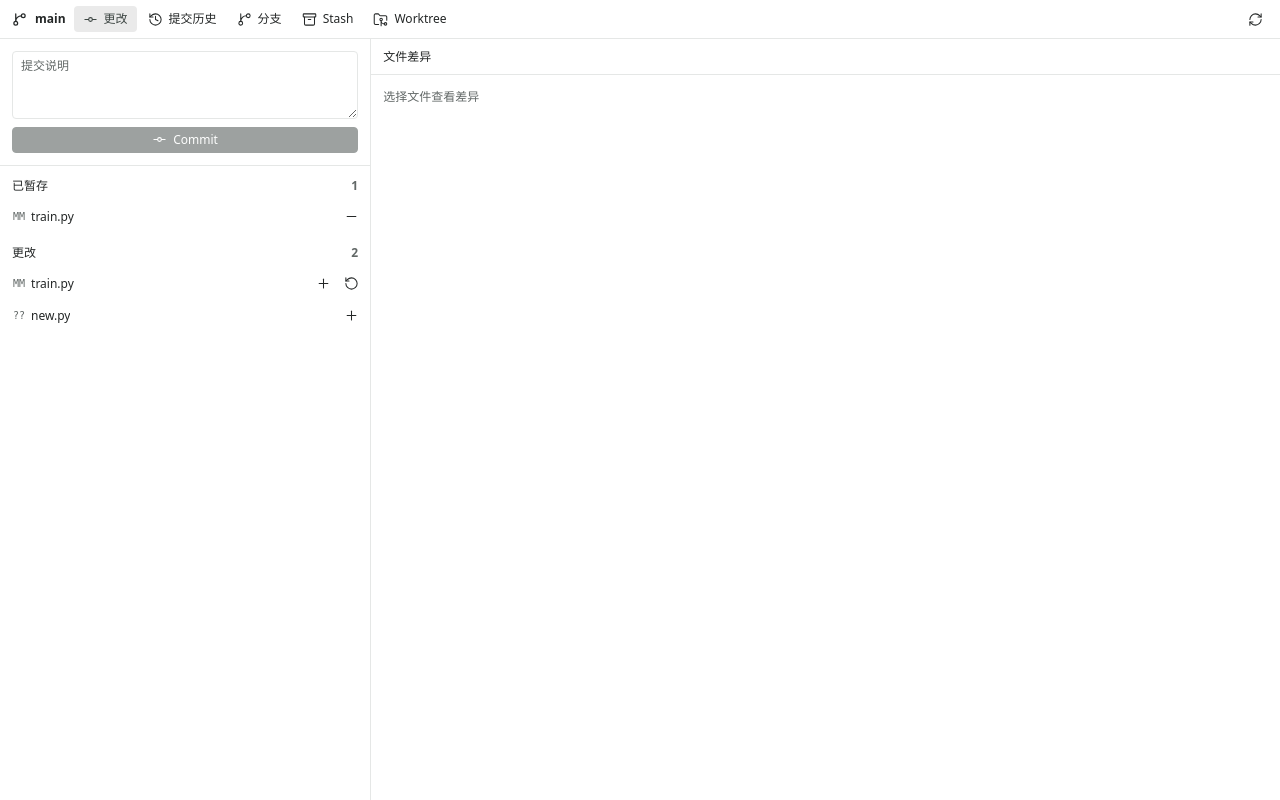
Test: protects existing unscoped manuscript drafts from manual Git overwrites
Click the button named "暂存 new.py".
click(351, 316)  # box x1=338 y1=303 x2=364 y2=329
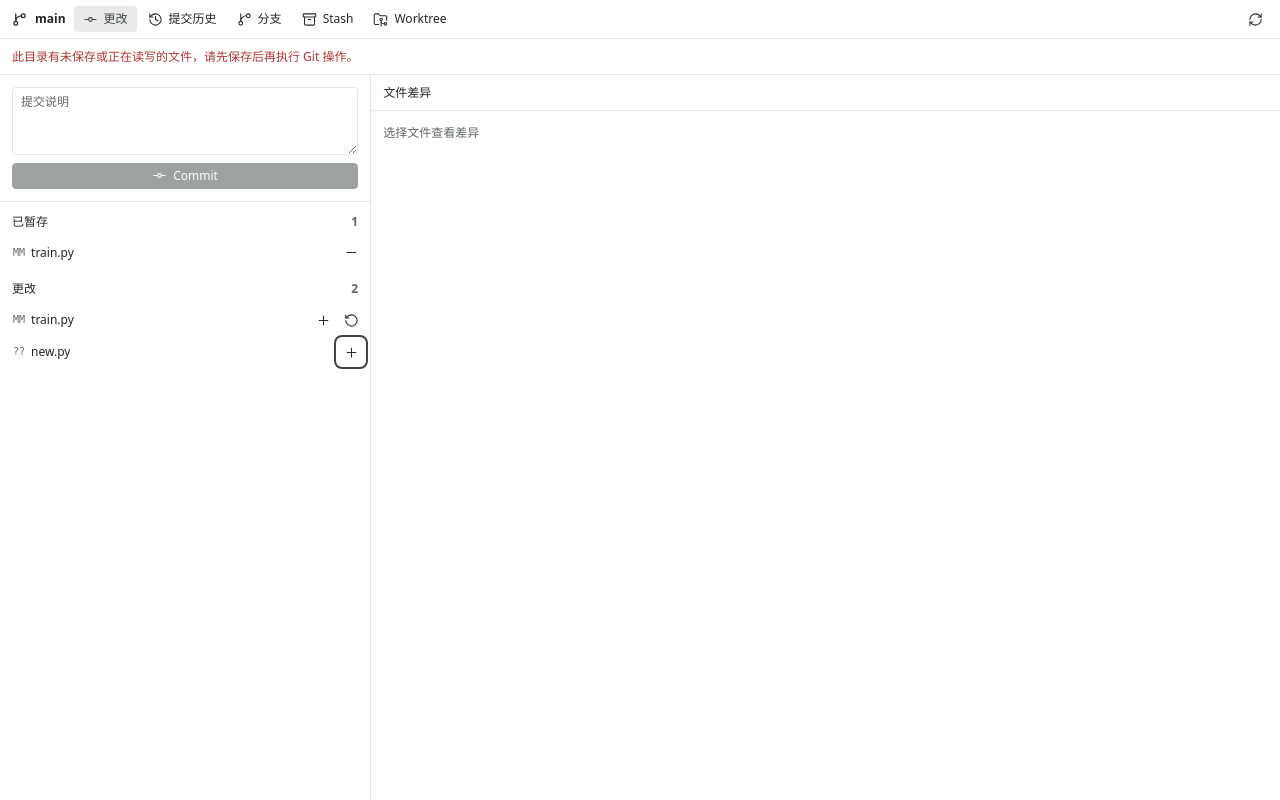
Expected: the text "此目录有未保存或正在读写的文件，请先保存后再执行 Git 操作。" is shown, x1=12 y1=47 x2=358 y2=66
